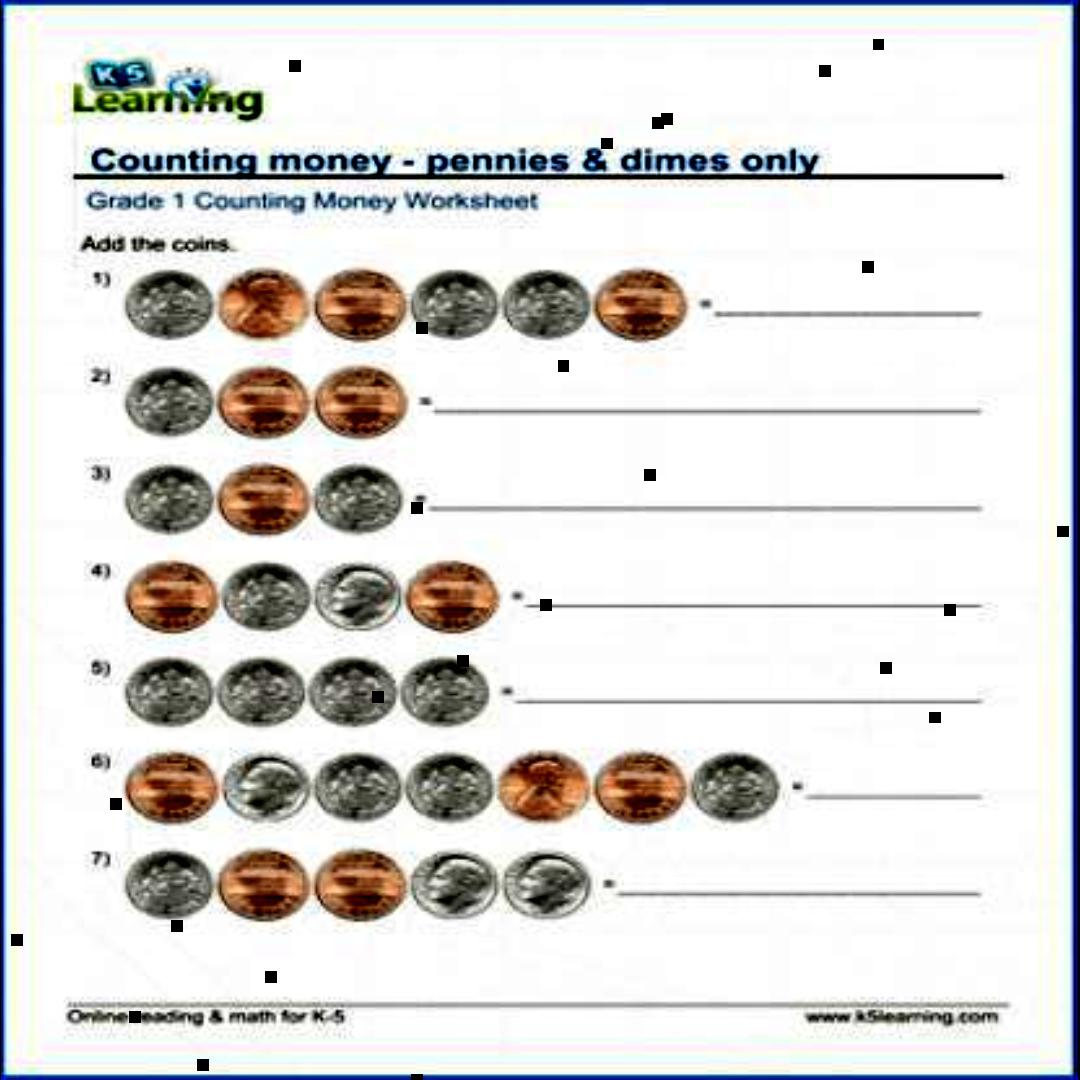Dime: (308, 559, 406, 636), (309, 747, 402, 824), (125, 266, 215, 344), (404, 750, 492, 828), (126, 466, 219, 538), (122, 848, 215, 920), (128, 368, 220, 440), (687, 754, 783, 821), (412, 850, 500, 918), (415, 271, 500, 341), (222, 752, 310, 818), (218, 661, 310, 723), (316, 468, 400, 534), (510, 852, 587, 924), (408, 659, 492, 723), (314, 658, 400, 720), (228, 566, 306, 634), (508, 268, 584, 335), (126, 668, 212, 725)
Penny: (112, 559, 220, 636), (219, 258, 312, 342), (318, 360, 412, 442), (308, 270, 411, 342), (306, 848, 408, 920), (588, 266, 686, 338), (220, 462, 308, 540), (590, 751, 682, 823), (499, 750, 587, 824), (223, 366, 311, 438), (416, 562, 504, 634), (218, 847, 306, 919), (128, 755, 213, 827)
